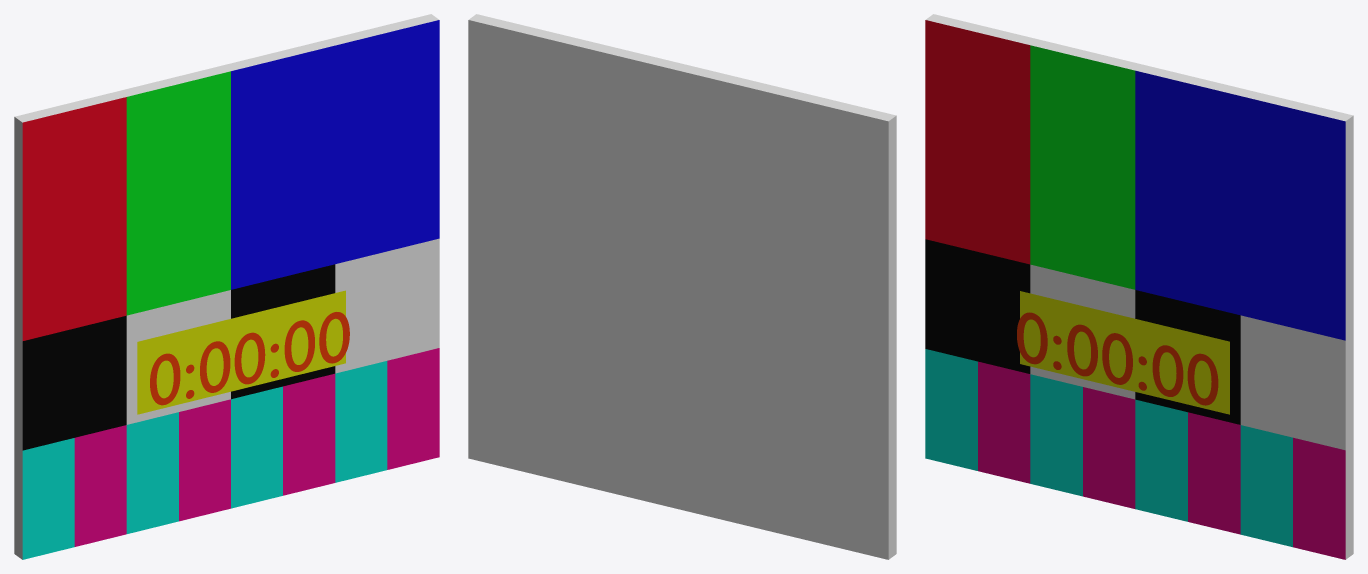
File: black_a_cy.glb
3 views of the same model, side by side, from view 1: azimuth 30°, elevation 25°; view 2: azimuth 150°, elevation 25°; view 3: azimuth 330°, elevation 25° (orthographic).
Parts seen in each view (by area): view 1: Text; view 2: Text; view 3: Text.
Boxes of the visible parts, box(x1,y1,x2,y2) form: Text: box(14, 14, 439, 559); Text: box(468, 14, 896, 559); Text: box(925, 14, 1353, 559).
Size of the model in its own units: 6 by 6 by 0.6753.
